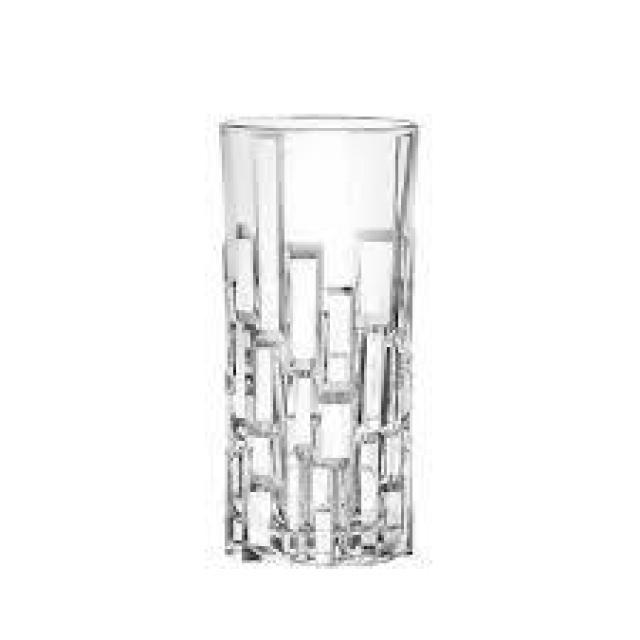Glass: (216, 115, 421, 568)
